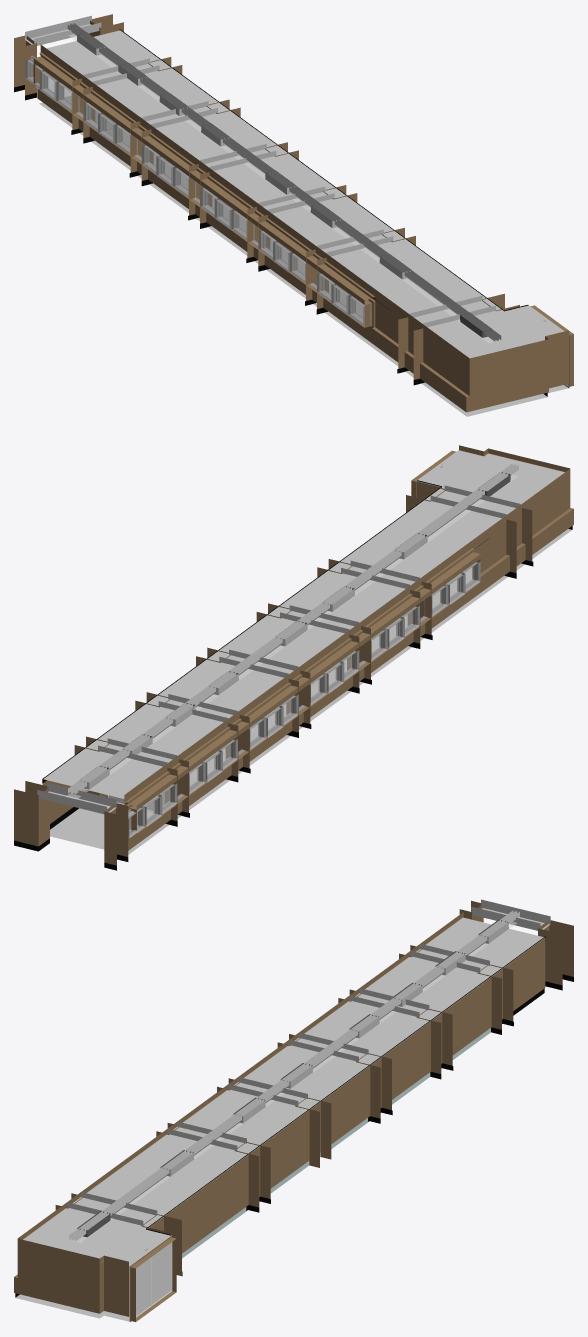
Rendered from School_corridor.fbx.
3 renders of one model, top to bottom at view 1: azimuth 30°, elevation 25°; view 2: azimuth 150°, elevation 25°; view 3: azimuth 330°, elevation 25°, orthographic. The views are drawn at different scales.
Visible parts, largest first — view 1: Top, Wall.001, Pillar, Window, Lamp, Bottom, Wall; view 2: Top, Wall.001, Pillar, Window, Lamp, Bottom, Wall; view 3: Top, Pillar, Wall, Wall.001, Lamp, Door1, Bottom.
Boxes of the visible parts, box(x1,y1,x2,y2) form: Top: box(46, 30, 564, 358); Wall.001: box(33, 44, 568, 412); Pillar: box(14, 14, 519, 385); Window: box(25, 56, 371, 325); Lamp: box(63, 23, 501, 342); Bottom: box(39, 96, 567, 416); Wall: box(119, 29, 528, 311); Top: box(43, 450, 564, 798); Wall.001: box(124, 445, 573, 850); Pillar: box(14, 483, 533, 870); Window: box(128, 561, 480, 838); Lamp: box(66, 463, 518, 799); Bottom: box(50, 529, 571, 854); Wall: box(42, 480, 489, 823); Top: box(23, 917, 544, 1266); Pillar: box(55, 899, 573, 1276); Wall: box(146, 936, 545, 1253); Wall.001: box(14, 912, 463, 1316); Lamp: box(69, 910, 522, 1242); Door1: box(129, 1236, 176, 1321); Bottom: box(15, 1266, 129, 1321).
Size of the model in its own units: 1789 by 880 by 11491.
